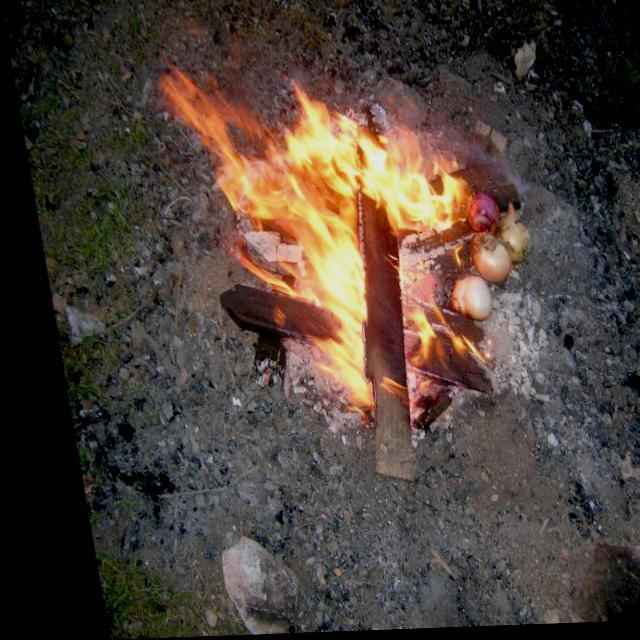Fire: (143, 54, 512, 406)
